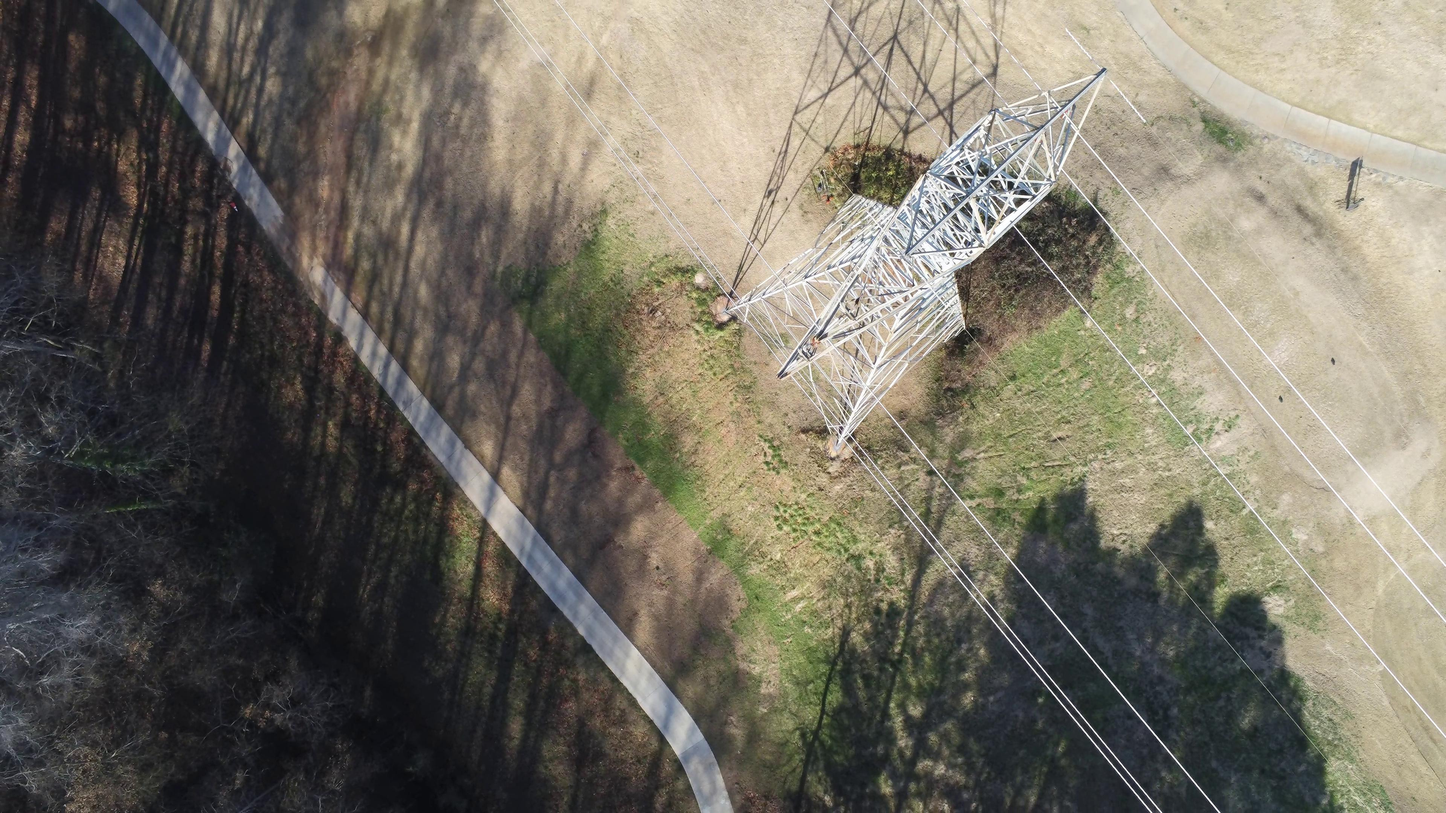power_tower: (719, 67, 1108, 450)
